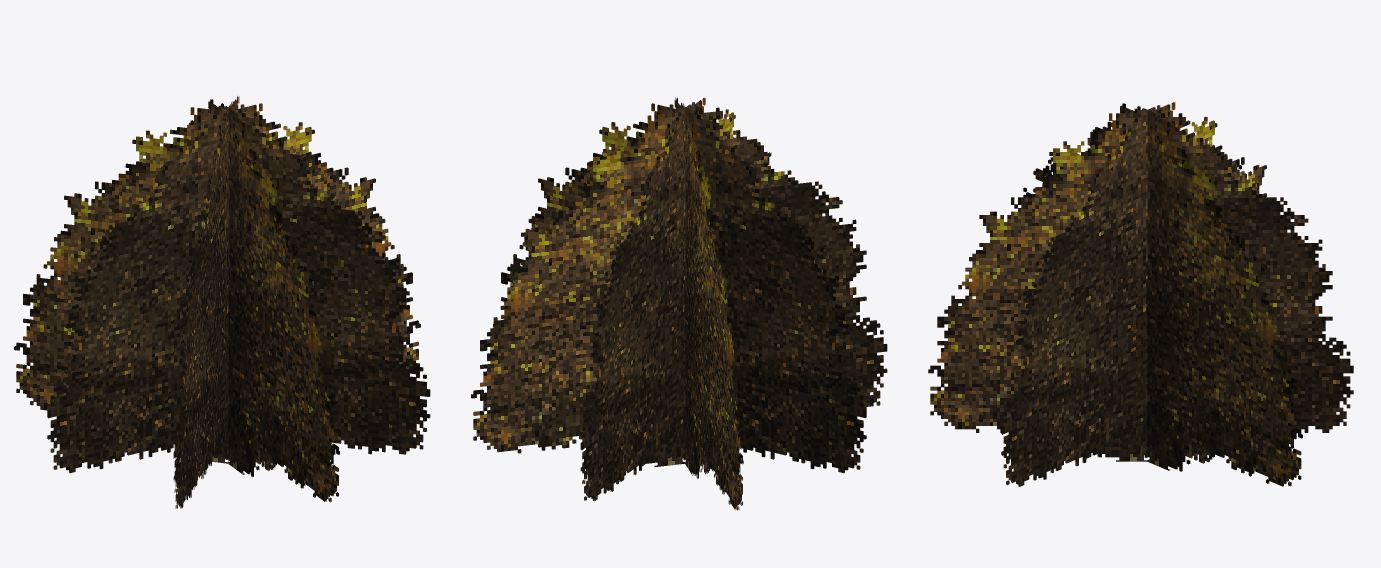
File: bush01.glb
3 views of the same model, side by side, from view 1: azimuth 30°, elevation 25°; view 2: azimuth 150°, elevation 25°; view 3: azimuth 270°, elevation 25° (orthographic).
Visible parts, largest first — view 1: bush01; view 2: bush01; view 3: bush01.
Boxes of the visible parts, x1,y1,x2,y2 form: bush01: (14,96,430,508); bush01: (471,97,887,510); bush01: (928,102,1353,486).
Size of the model in its own units: 1.34 by 1.2 by 1.34.
Materials: 1 (1 with a texture image).
